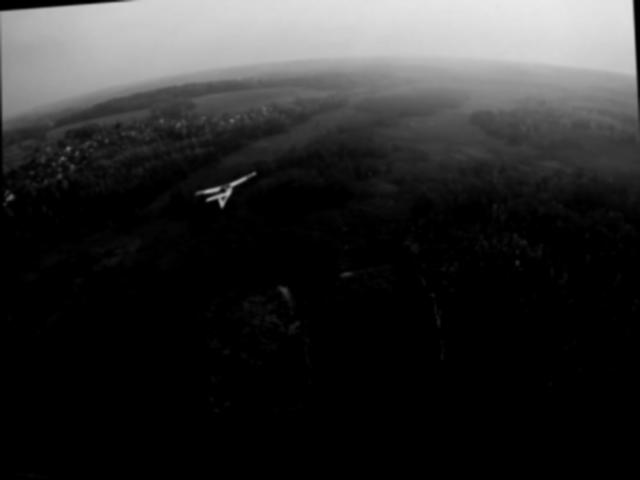hedef: (185, 166, 259, 220)
